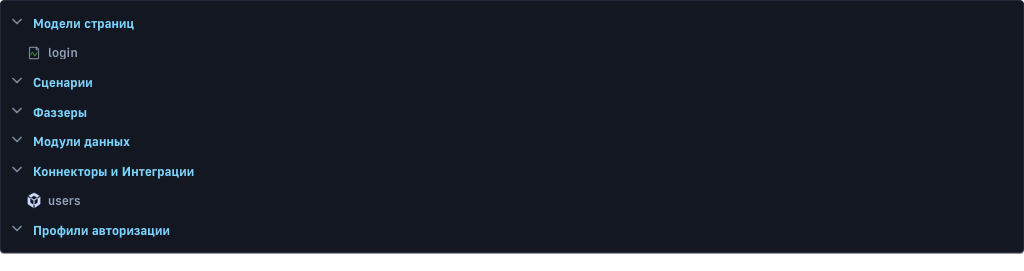
Scenario: StudioBlocksTree folders › показывает модули плоско и не предлагает создавать для них группы
Expected: the text "users" is shown, 48,192 -> 81,208
Right-click the text "Коннекторы и Интеграции".
right_click(114, 170)  # box 33,162 -> 194,178
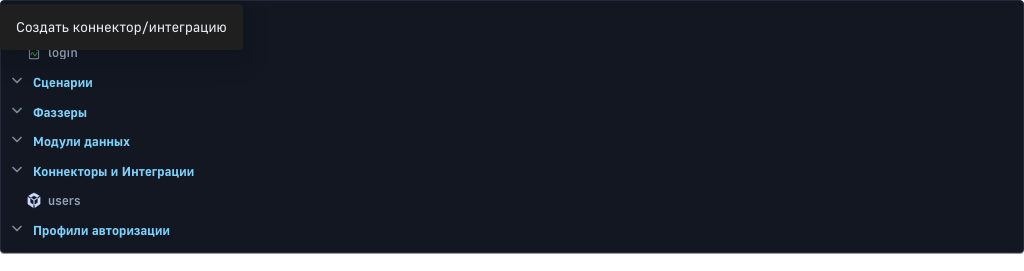
Now the text "Создать коннектор/интеграцию" is shown, box 16,16 -> 227,38
